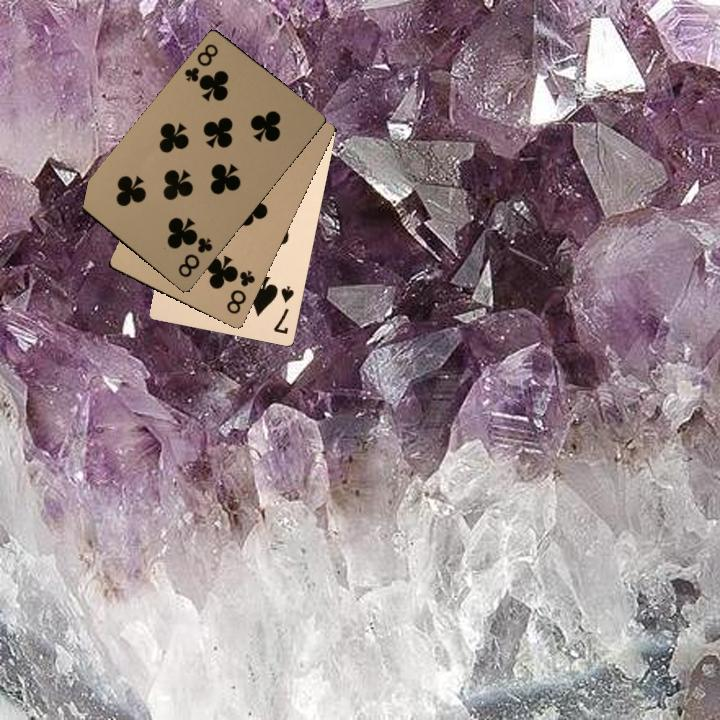7s: (269, 283, 296, 337)
8c: (180, 39, 221, 88), (174, 233, 215, 280), (222, 266, 258, 317)
